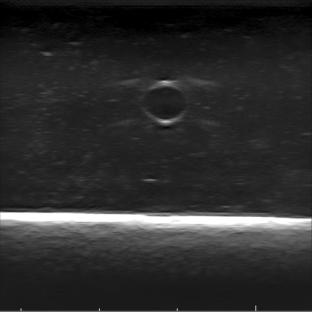vessel: (139, 79, 189, 125)
